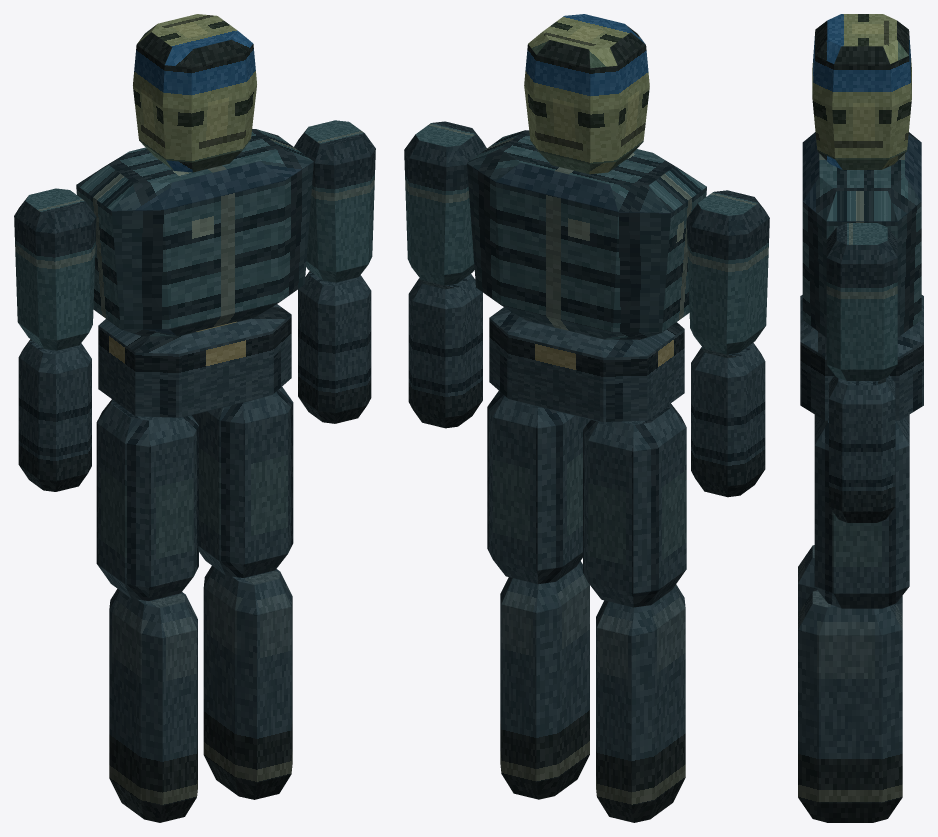
The model's file is worker.glb.
3 views of the same model, side by side, from view 1: azimuth 30°, elevation 25°; view 2: azimuth 150°, elevation 25°; view 3: azimuth 270°, elevation 25° (orthographic).
Visible parts, largest first — view 1: chest, shin1, shin-1, thigh-1, head, thigh1, pelvis, upperArm-1, forearm-1, forearm1, upperArm1; view 2: chest, shin-1, shin1, thigh-1, head, thigh1, pelvis, upperArm-1, forearm-1, forearm1, upperArm1; view 3: shin1, head, chest, thigh1, upperArm1, forearm1, pelvis, shin-1.
Part boxes in pixels (x1,y1,x2,y2): chest: (76,129,313,336); shin1: (203,566,292,799); shin-1: (109,589,197,822); thigh-1: (96,399,198,600); head: (133,14,256,172); thigh1: (192,387,293,577); pelvis: (98,304,291,417); upperArm-1: (14,188,96,350); forearm-1: (18,339,91,491); forearm1: (298,271,371,423); upperArm1: (294,120,375,282); chest: (467,130,706,339); shin-1: (596,584,685,822); shin1: (500,561,589,799); thigh-1: (583,403,686,607); head: (524,14,649,174); thigh1: (487,391,589,584); pelvis: (489,307,684,421); upperArm-1: (686,190,769,354); forearm-1: (691,342,765,497); forearm1: (408,274,482,428); upperArm1: (404,121,486,285); shin1: (798,590,902,822); head: (812,14,911,169); chest: (802,132,921,337); thigh1: (814,417,909,608); upperArm1: (826,223,897,380); forearm1: (829,375,895,522); pelvis: (800,295,923,420); shin-1: (798,545,902,612).
Size of the model in its own units: 0.8287 by 1.77 by 0.265.
Materials: 1 (1 with a texture image).
